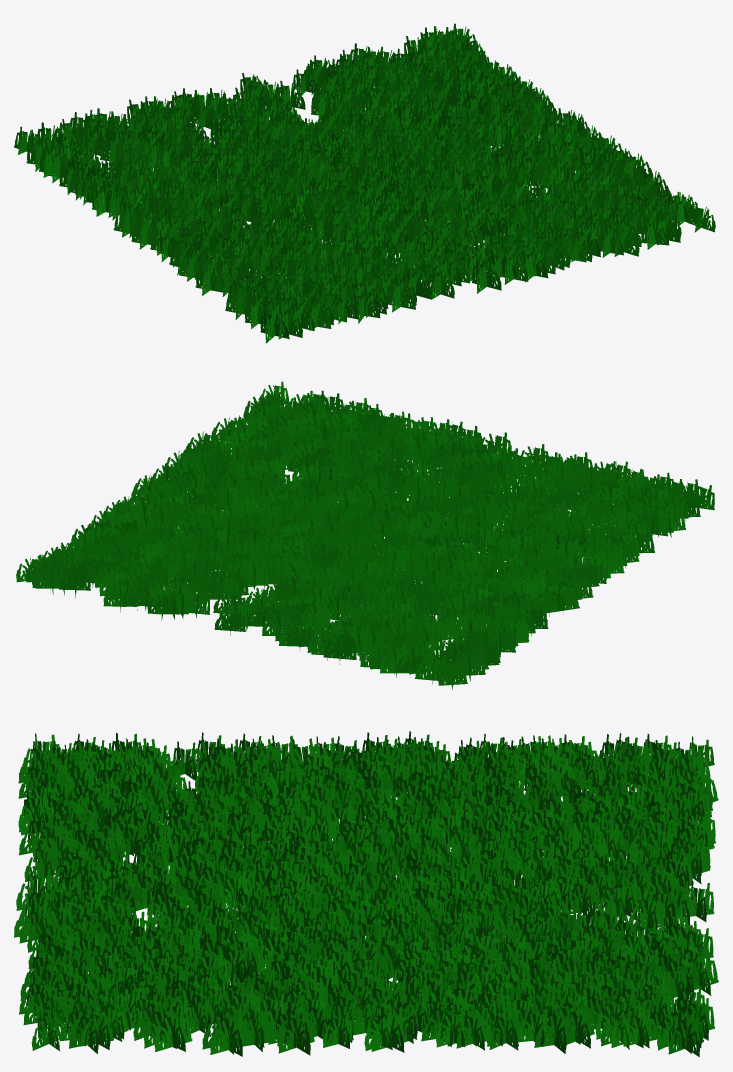
The model's file is grass.fbx.
3 renders of one model, top to bottom at view 1: azimuth 30°, elevation 25°; view 2: azimuth 150°, elevation 25°; view 3: azimuth 270°, elevation 25°, orthographic. The views are drawn at different scales.
Parts seen in each view (by area): view 1: Grass.002; view 2: Grass.002; view 3: Grass.002.
Part boxes in pixels (x1,y1,x2,y2): Grass.002: (14, 23, 715, 343); Grass.002: (16, 381, 714, 690); Grass.002: (14, 731, 718, 1057).
Size of the model in its own units: 421 by 423 by 32.16.
